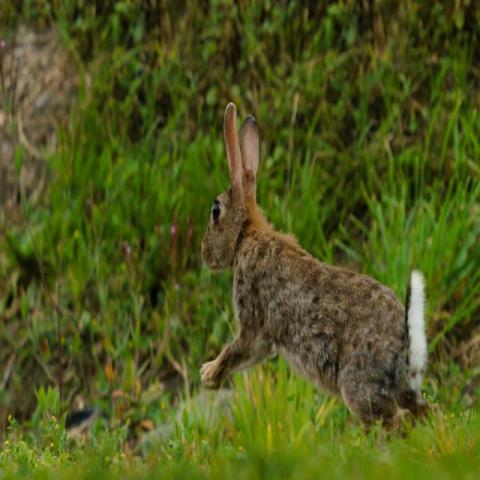small_animal: (195, 100, 434, 440)
